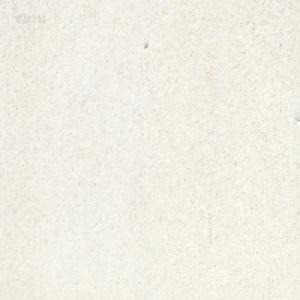Wrench: (187, 0, 194, 5)
